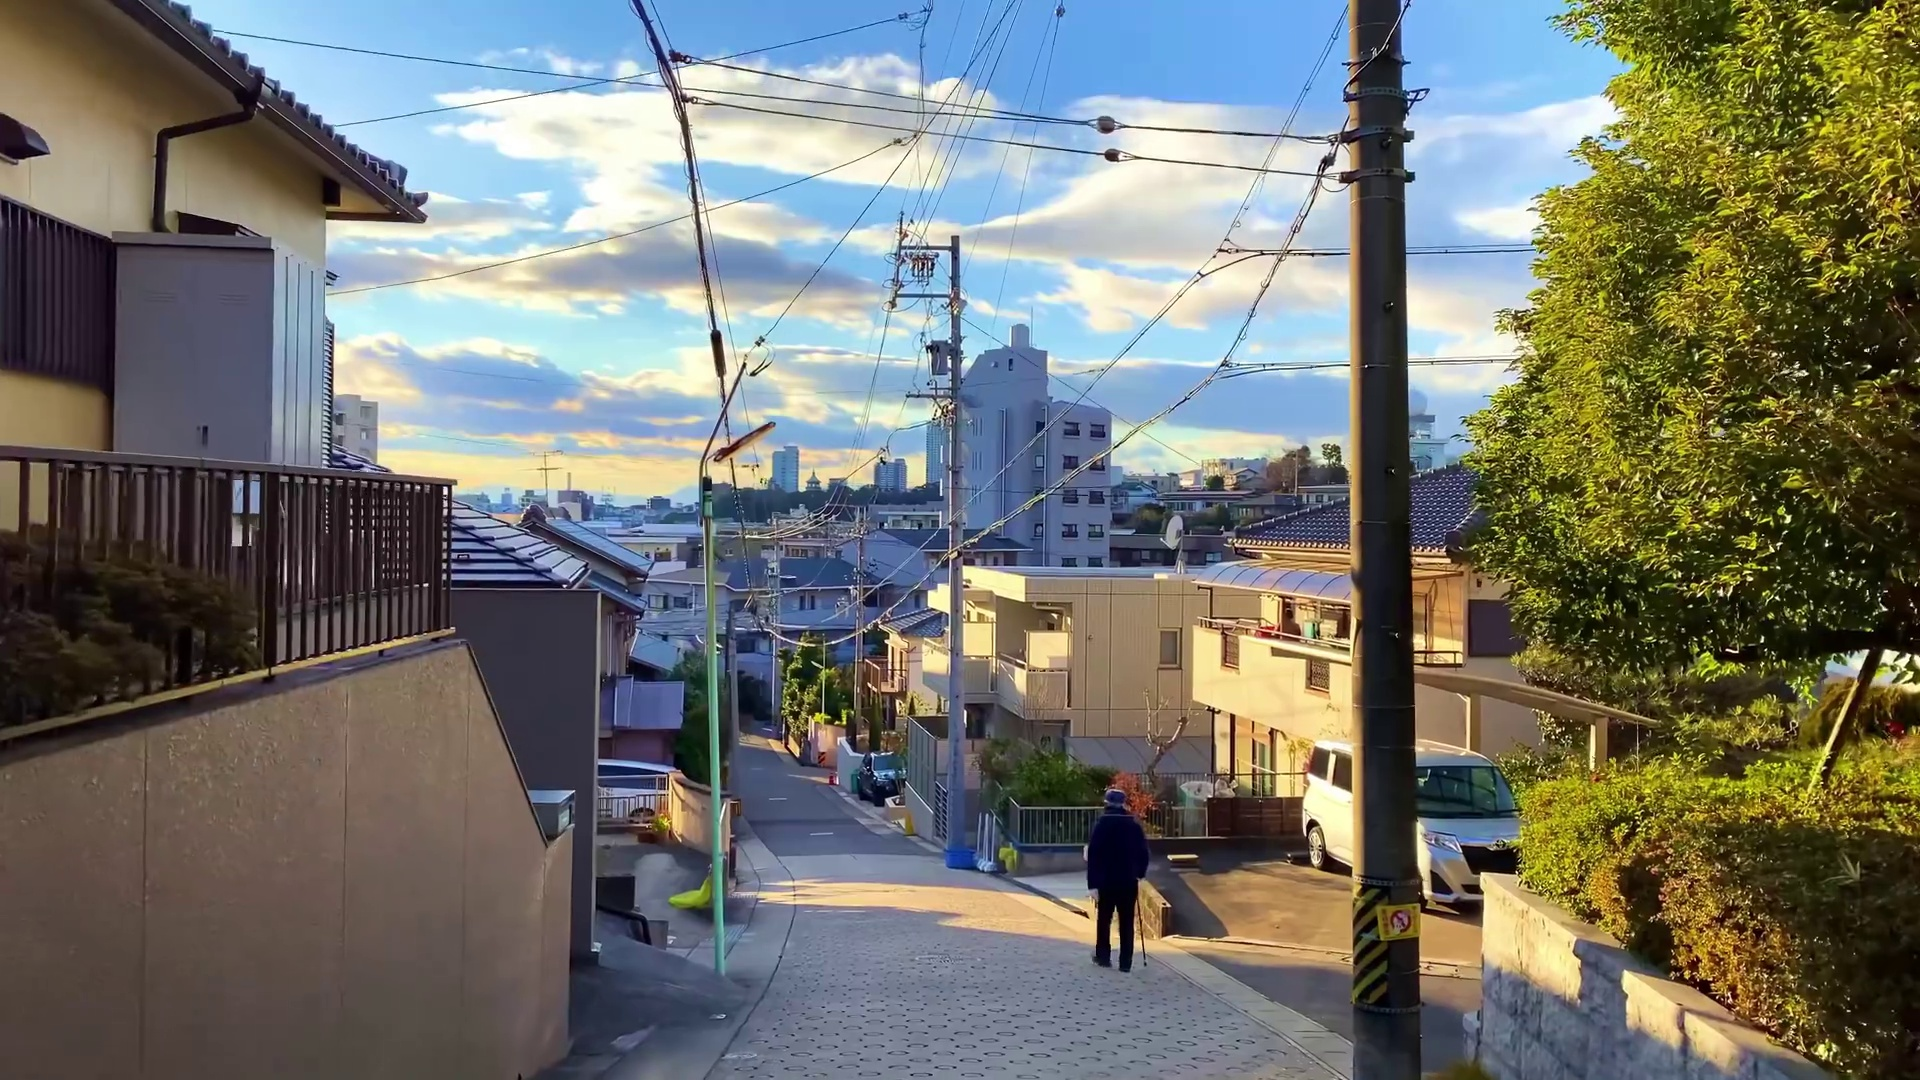person: (1084, 792, 1148, 971)
